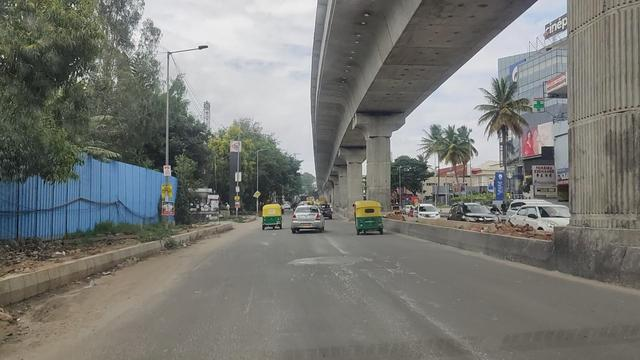LMV: (290, 204, 326, 234), (356, 200, 384, 236), (262, 206, 283, 230)
RoadDamages: (290, 251, 374, 267), (379, 256, 416, 282), (333, 266, 352, 285)
